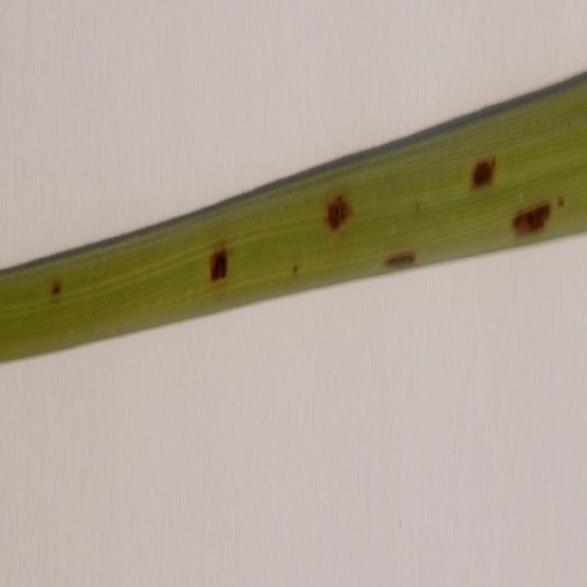Brown_Spot: (511, 192, 563, 244), (324, 160, 354, 237), (207, 227, 234, 309), (387, 222, 423, 280), (466, 143, 507, 193), (47, 247, 64, 305)
